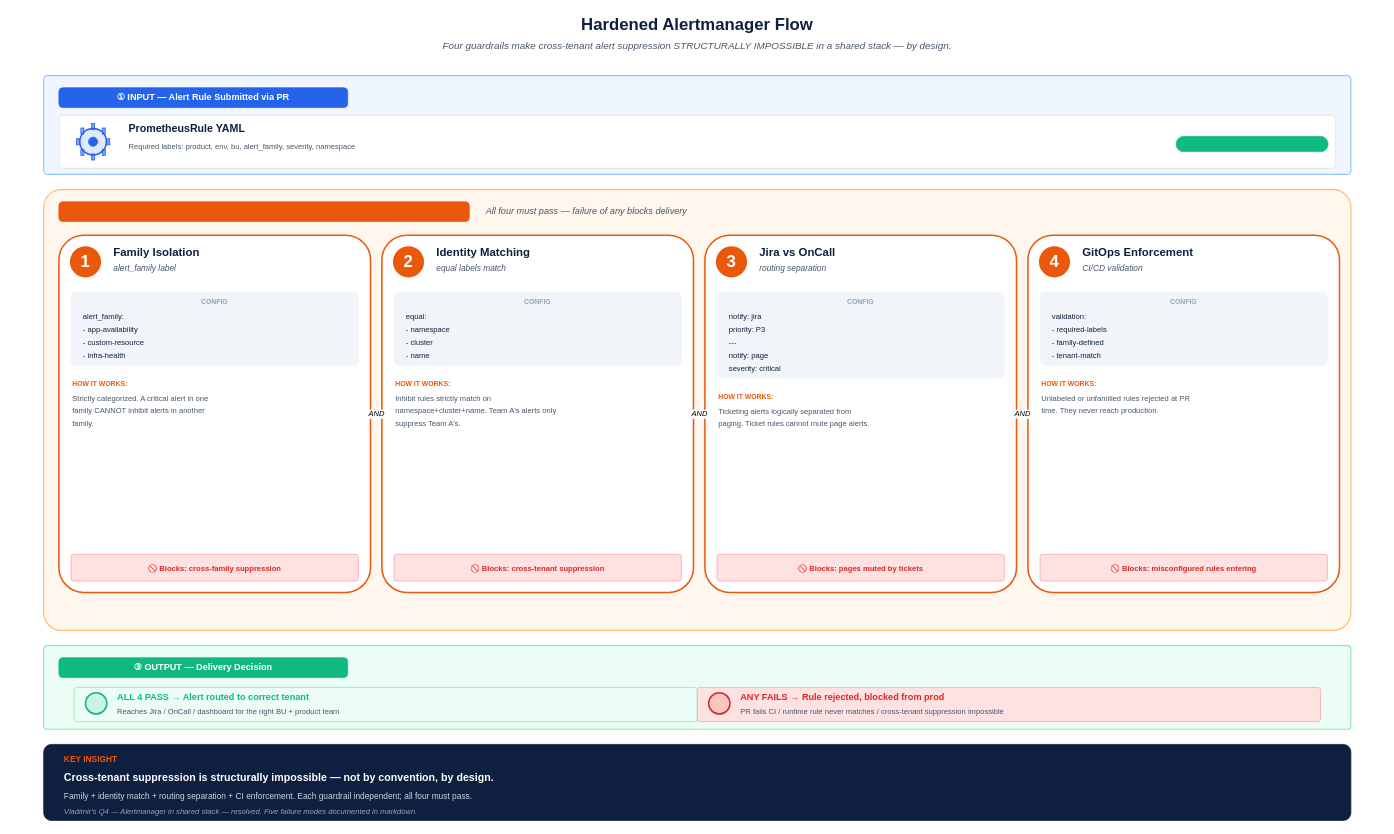
Some shapes in this 1394 by 834 pixel diagram are drawn without their labels. Each missing label, with the box of its shape:
Validated at PR time: (1175, 136, 1328, 152)
② HARDENED ALERTMANAGER FLOW — Four Guardrails: (58, 201, 469, 222)
